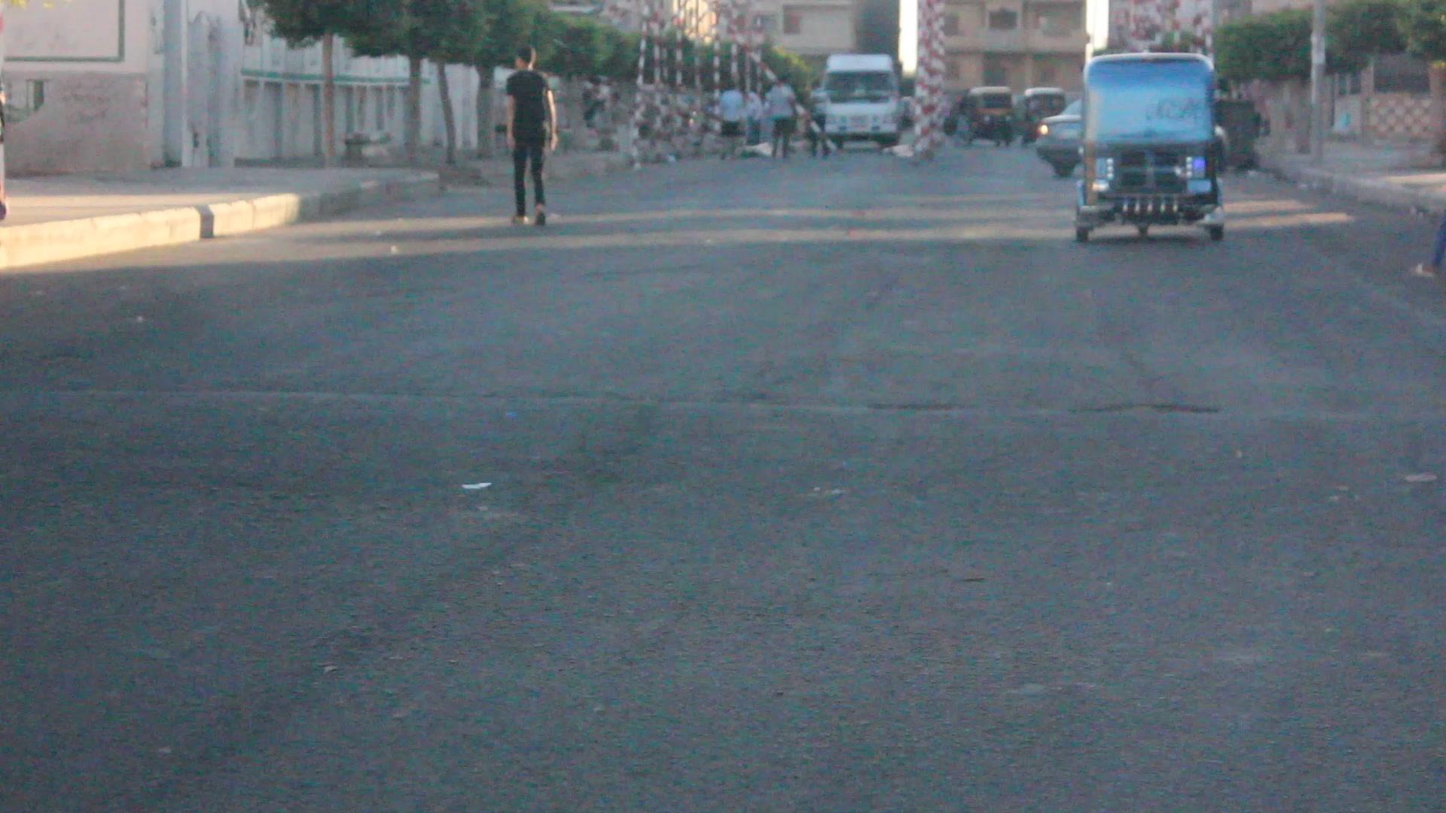Bump: (0, 388, 1446, 510)
